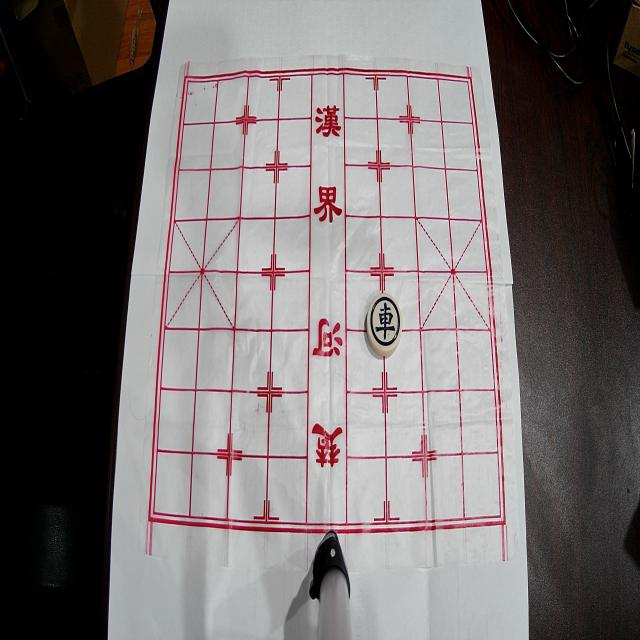black-chariot: (366, 294, 402, 356)
